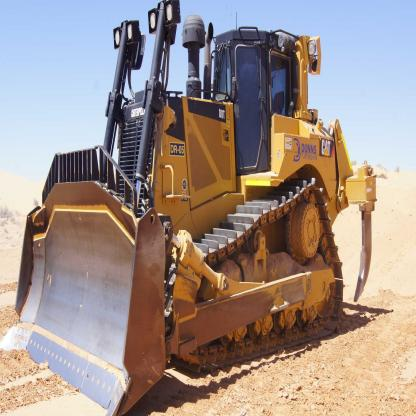bull_dozer/loader/grader: (20, 3, 396, 408)
